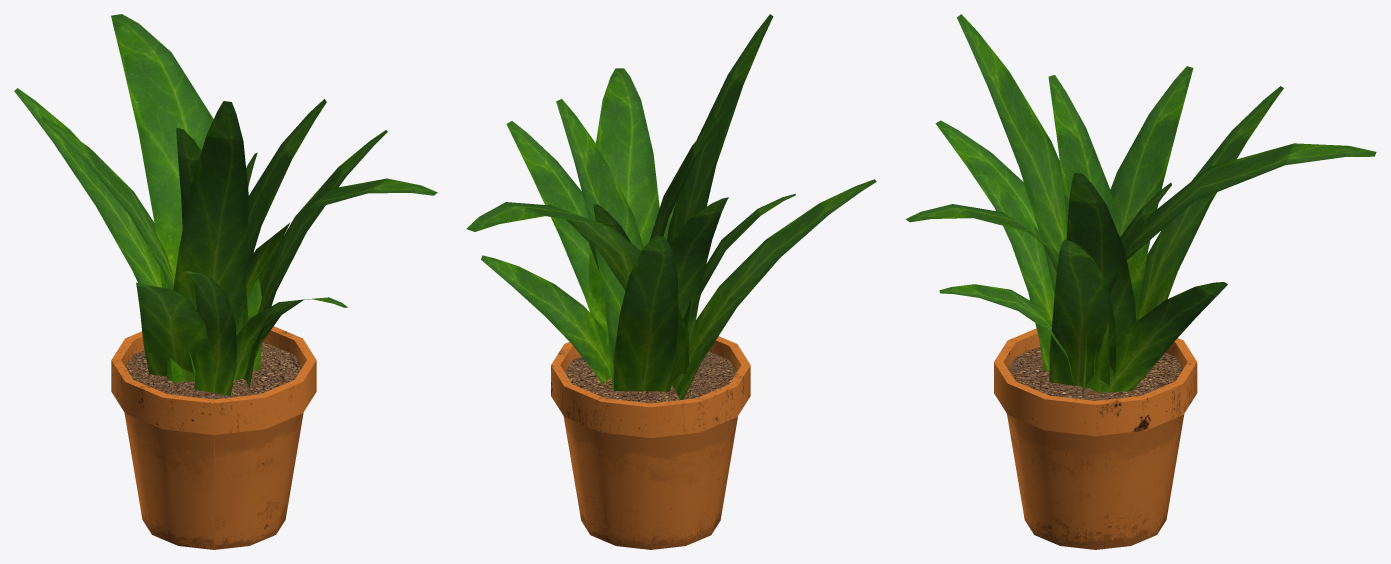
Rendered from PottedPlant.FBX.
3 renders of one model, left to right at view 1: azimuth 30°, elevation 25°; view 2: azimuth 150°, elevation 25°; view 3: azimuth 270°, elevation 25°, orthographic. The views are drawn at different scales.
Parts seen in each view (by area): view 1: Pot, Plane003, Plane009, Plane004, Plane010, Plane011, Plane012, Plane014, Plane013, Plane007, Plane005, Plane015 (+2 smaller); view 2: Pot, Plane010, Plane015, Plane004, Plane005, Plane009, Plane014, Plane008, Plane003, Plane007, Plane001, Plane013 (+2 smaller); view 3: Pot, Plane009, Plane014, Plane007, Plane008, Plane010, Plane003, Plane005, Plane011, Plane001, Plane013, Plane004 (+4 smaller).
Boxes of the visible parts, x1,y1,x2,y2 form: Pot: (111, 326, 316, 549); Plane003: (111, 14, 261, 382); Plane009: (167, 101, 248, 381); Plane004: (136, 282, 210, 376); Plane010: (14, 88, 161, 287); Plane011: (184, 271, 237, 395); Plane012: (111, 14, 261, 379); Plane014: (244, 130, 387, 387); Plane013: (167, 102, 248, 381); Plane007: (41, 117, 195, 378); Plane005: (247, 99, 326, 265); Plane015: (246, 178, 437, 301); Pot: (551, 336, 750, 549); Plane010: (613, 236, 678, 391); Plane015: (588, 68, 659, 320); Plane004: (671, 179, 876, 399); Plane005: (556, 99, 643, 388); Plane009: (667, 14, 773, 374); Plane014: (506, 121, 611, 373); Plane008: (481, 255, 611, 384); Plane003: (466, 202, 689, 382); Plane007: (669, 197, 728, 345); Plane001: (649, 107, 727, 241); Plane013: (667, 15, 772, 373); Pot: (994, 328, 1197, 549); Plane009: (957, 14, 1067, 294); Plane014: (1049, 239, 1115, 387); Plane007: (1110, 66, 1193, 318); Plane008: (1086, 282, 1227, 392); Plane010: (1136, 86, 1283, 383); Plane003: (1082, 143, 1376, 394); Plane005: (1066, 173, 1136, 342); Plane011: (973, 167, 1054, 371); Plane001: (1048, 75, 1120, 236); Plane013: (958, 14, 1066, 293); Plane004: (935, 120, 1039, 232).
Bounding box in the file's own units: 14.96 × 21.95 × 19.62.
1 material, 1 textured.
